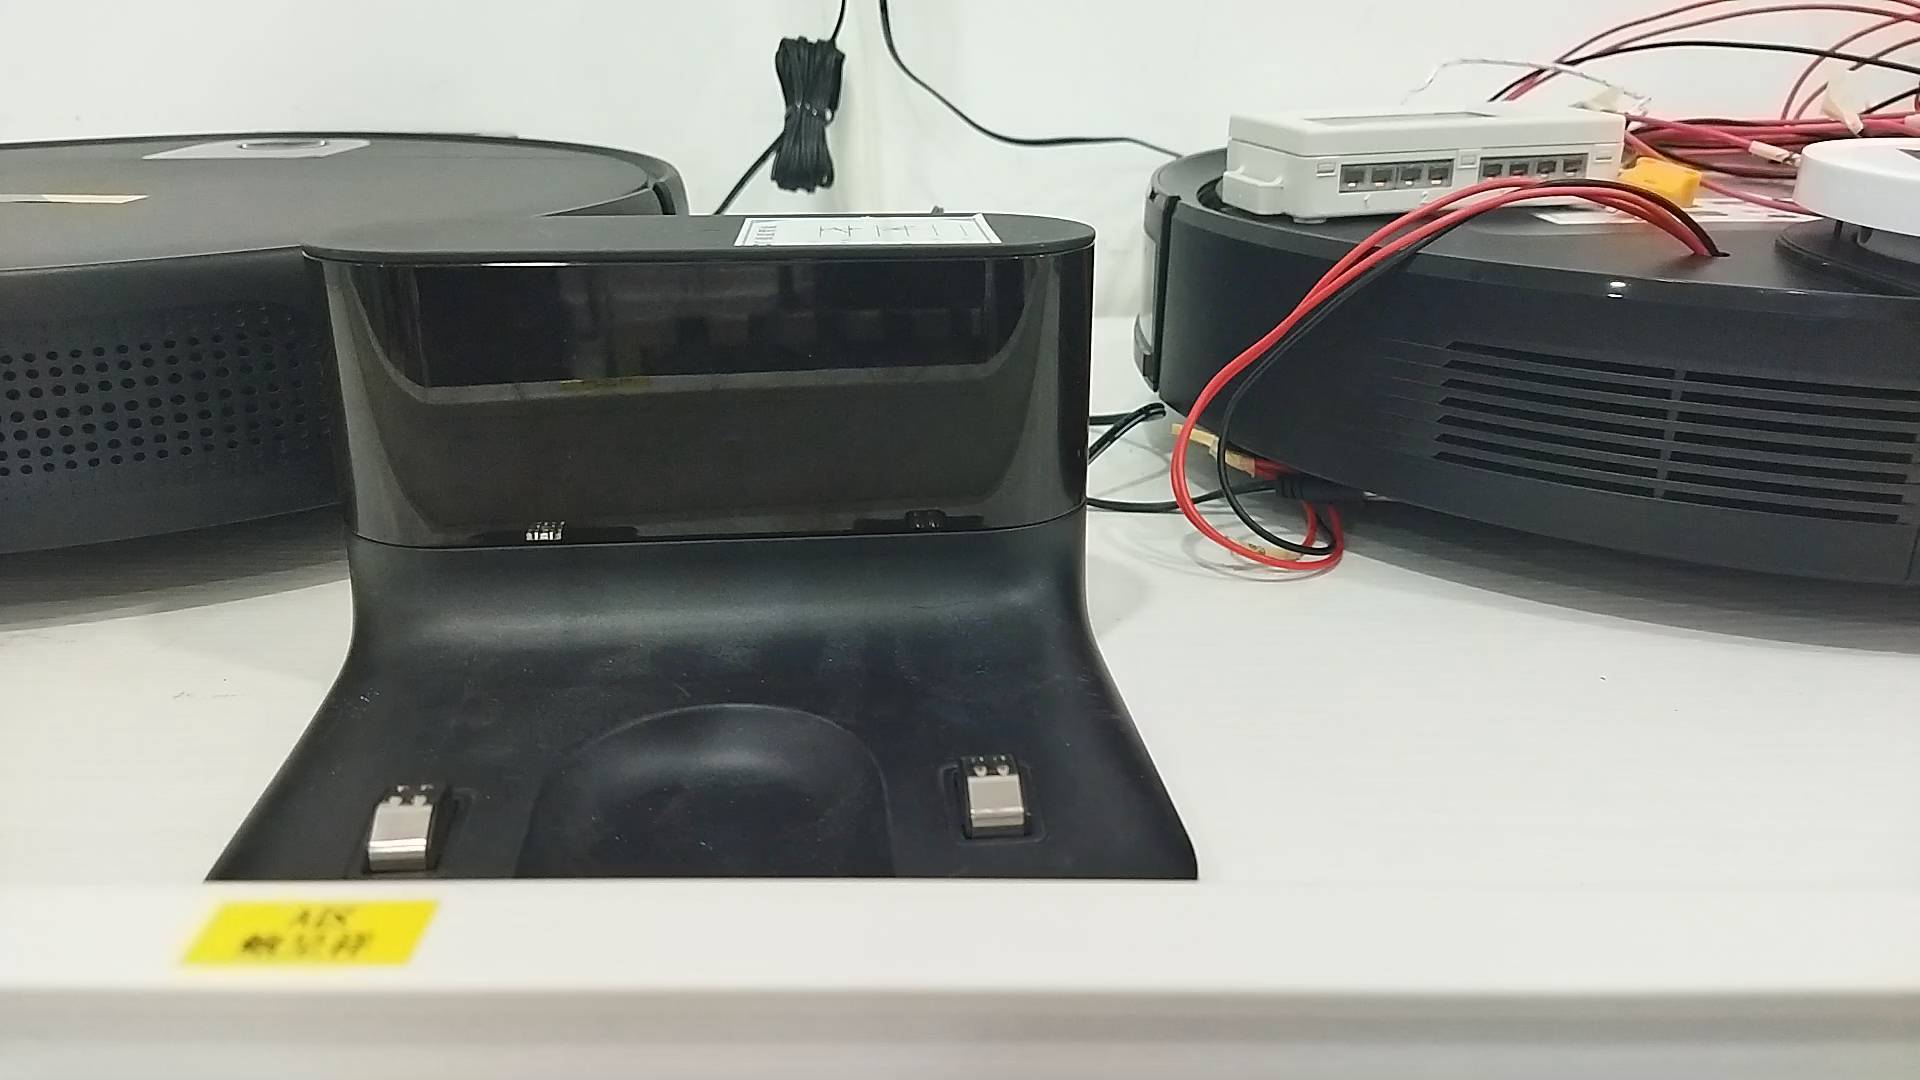recharge seat: (200, 212, 1207, 881)
